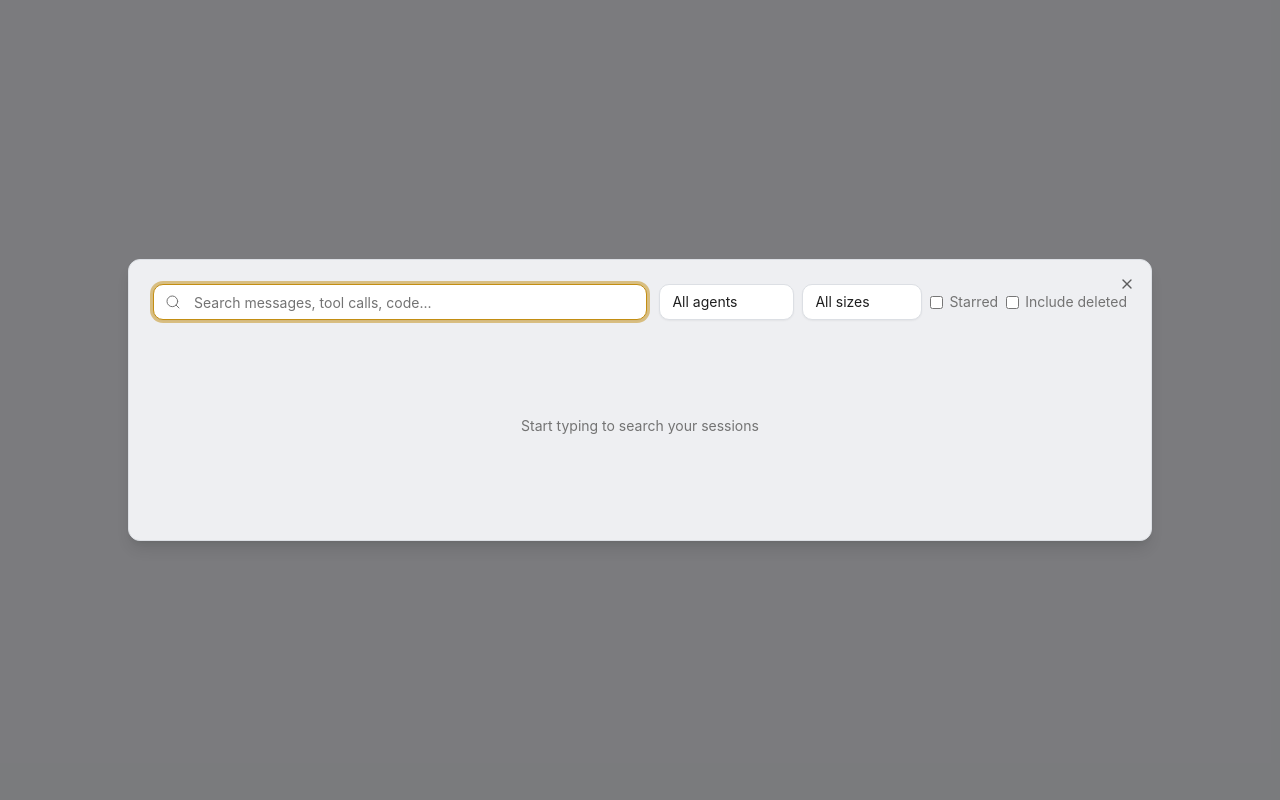
Test case: SearchDialog › performs search after debounce and shows results
Type "foo" into the search field with test id "search-input" at (400, 302), box [153,284,647,320]
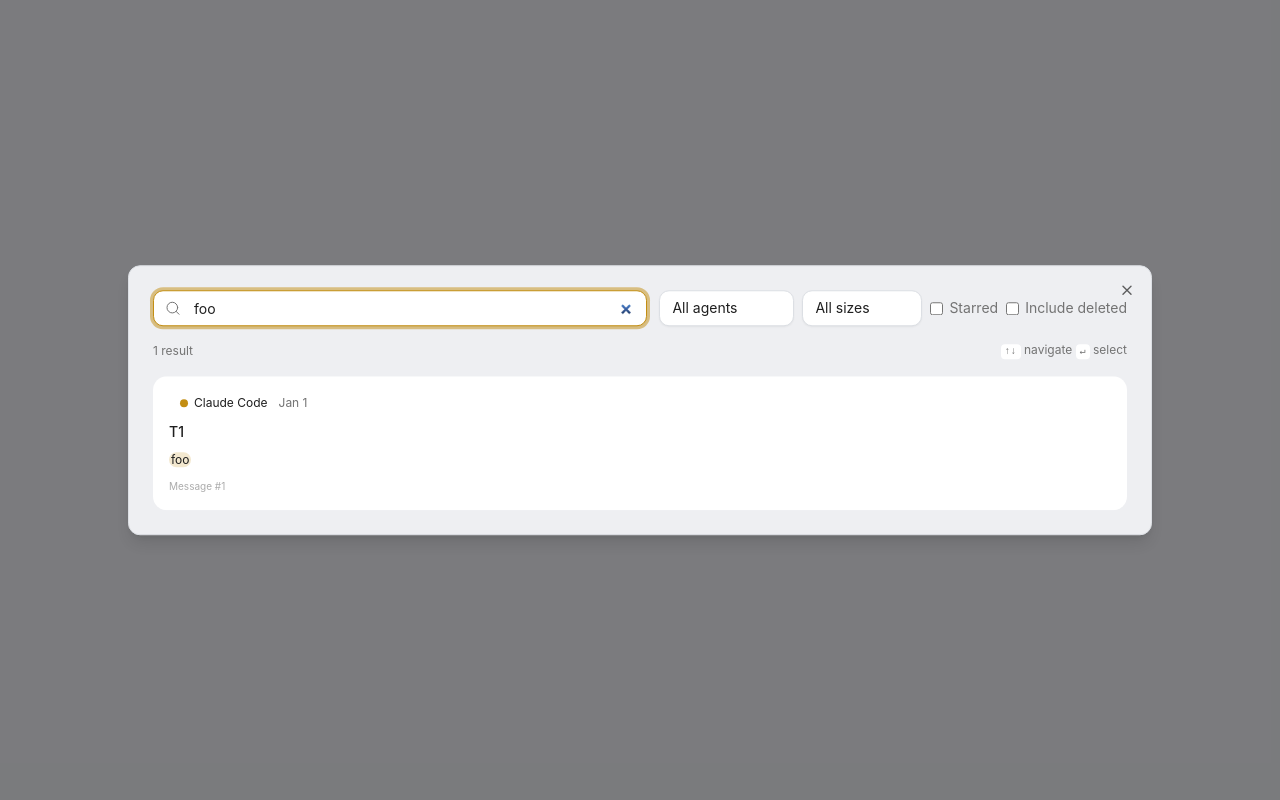
Check: the number of options with test id "search-result" is 1, box [153,376,1127,510]
